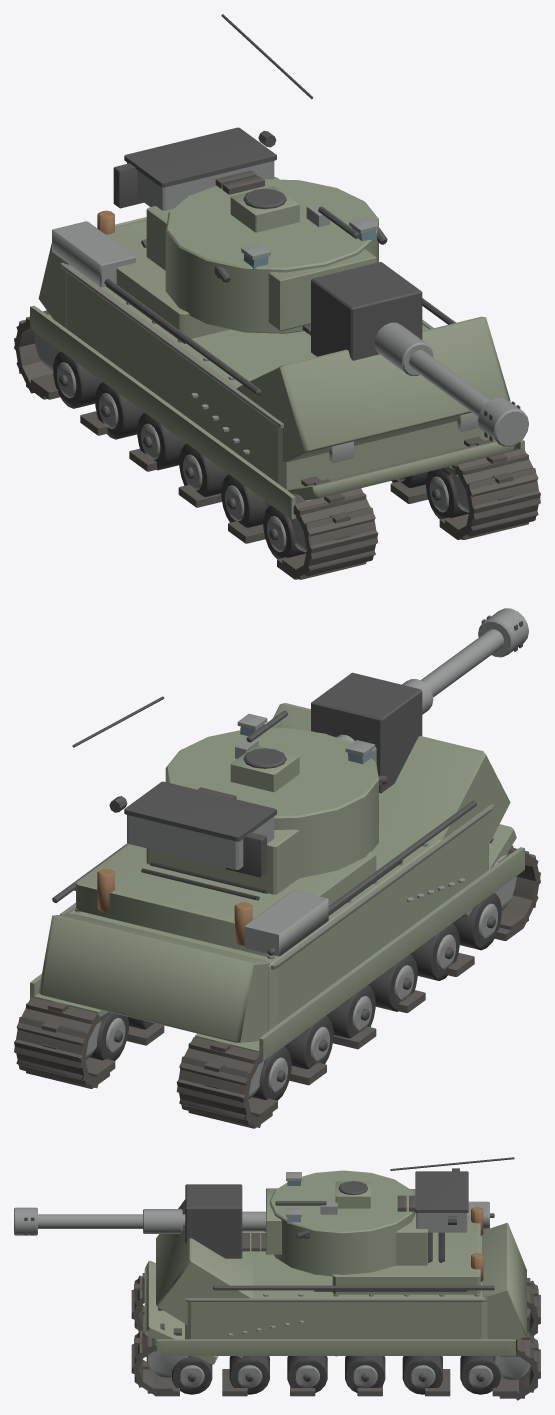
File: boar.glb
3 views of the same model, one above another, from view 1: azimuth 30°, elevation 25°; view 2: azimuth 150°, elevation 25°; view 3: azimuth 270°, elevation 25° (orthographic). The views are drawn at different scales.
Visible parts, largest first — view 1: Hull, Turret, Barrel; view 2: Hull, Turret, Barrel; view 3: Hull, Turret, Barrel.
Part boxes in pixels (x1=…): Hull: x1=14, y1=210, x2=540, y2=579; Turret: x1=113, y1=14, x2=387, y2=333; Barrel: x1=311, y1=262, x2=528, y2=446; Hull: x1=14, y1=703, x2=540, y2=1128; Turret: x1=72, y1=696, x2=387, y2=894; Barrel: x1=311, y1=608, x2=528, y2=793; Hull: x1=131, y1=1199, x2=540, y2=1400; Turret: x1=266, y1=1157, x2=514, y2=1276; Barrel: x1=14, y1=1184, x2=265, y2=1258.
Bounding box in the file's own units: 3.26 × 4.47 × 9.28.
